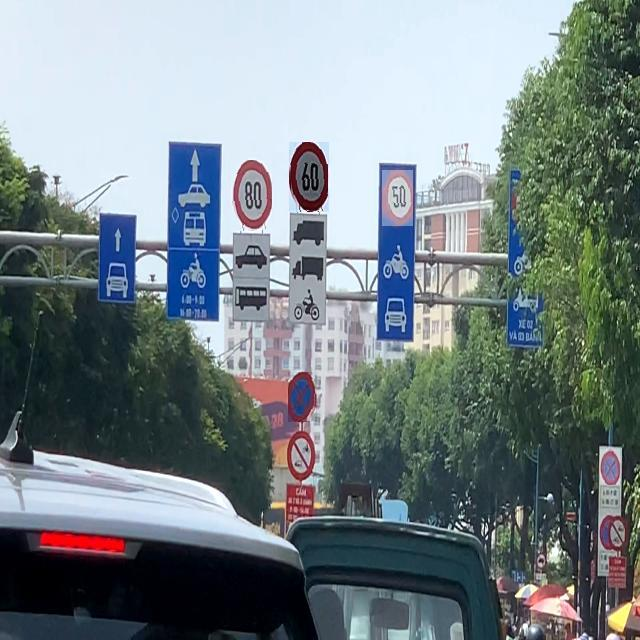P-127: (231, 160, 272, 231), (290, 142, 330, 212), (382, 170, 413, 226)
P-130: (288, 372, 317, 422), (600, 449, 620, 485)
